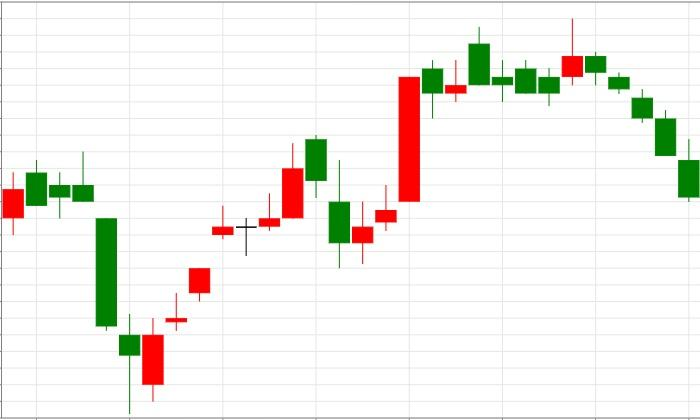three_white_soldiers_rise: (305, 76, 420, 268)
